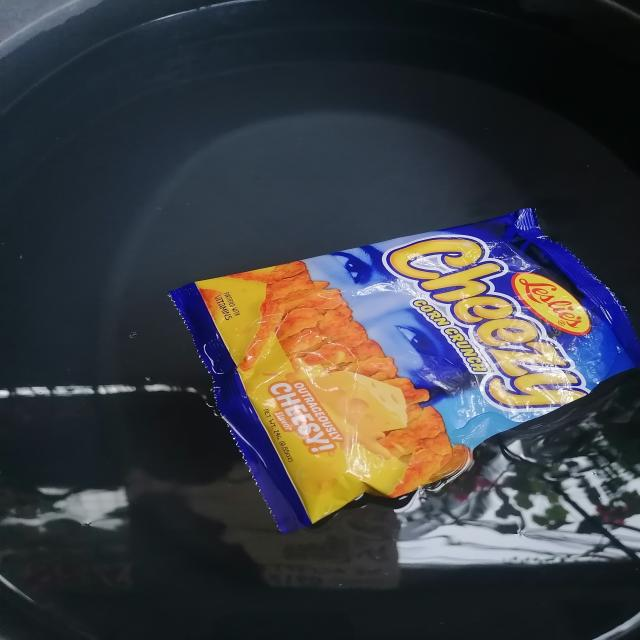Plastic Wrapper: (128, 179, 640, 546)
